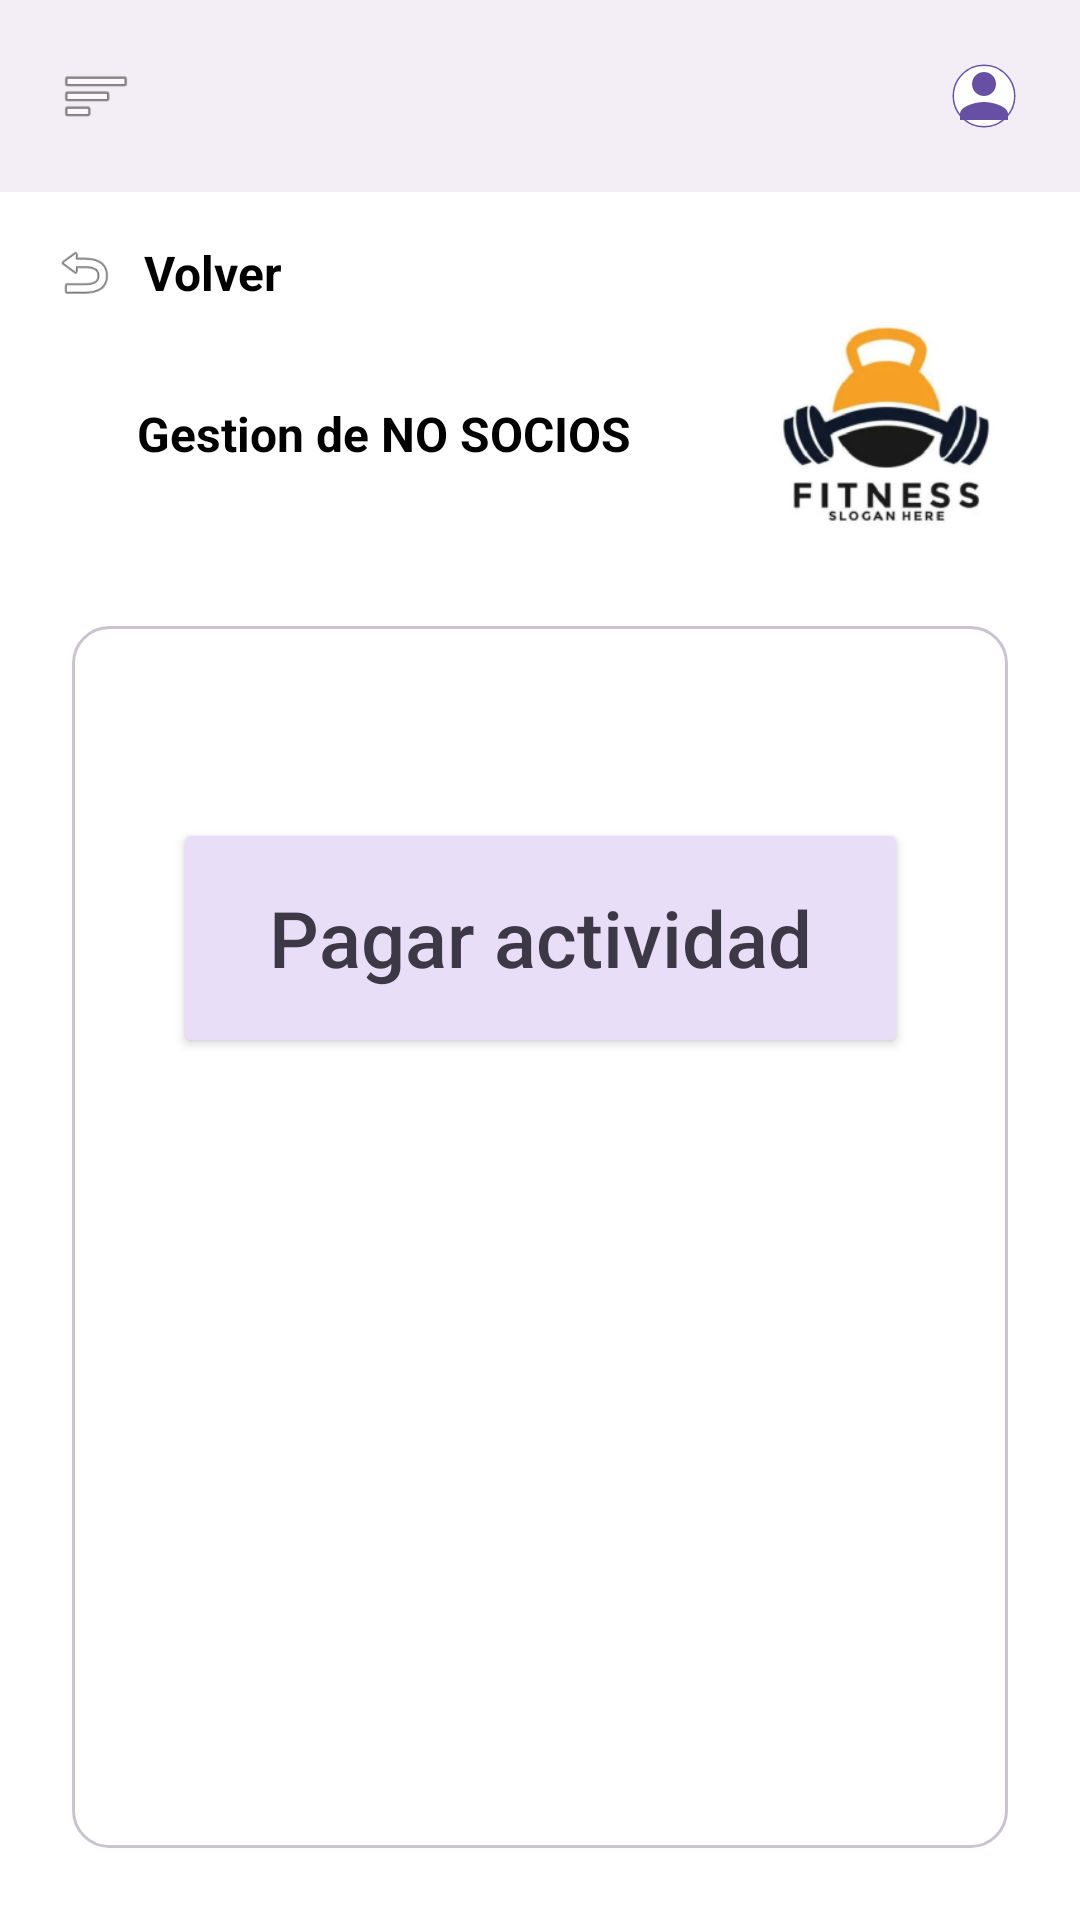

Icon click points for this 1080px x 1920px phone screenshot, format [x,y]:
revert: [84,273]
sort by size: [96,96]
